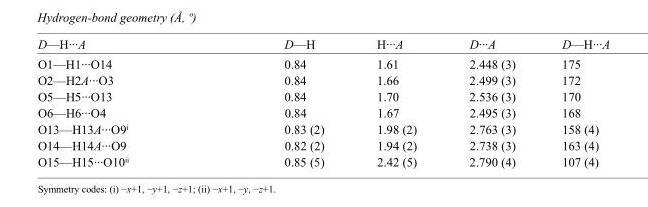table: (36, 37, 609, 168)
table column: (36, 37, 205, 168), (205, 37, 349, 168), (442, 37, 538, 168), (349, 37, 442, 168), (538, 37, 609, 168)
table row: (36, 53, 609, 71), (36, 71, 609, 88), (36, 120, 609, 137), (36, 37, 609, 53), (36, 88, 609, 104), (36, 104, 609, 120), (36, 137, 609, 153), (36, 153, 609, 168)
